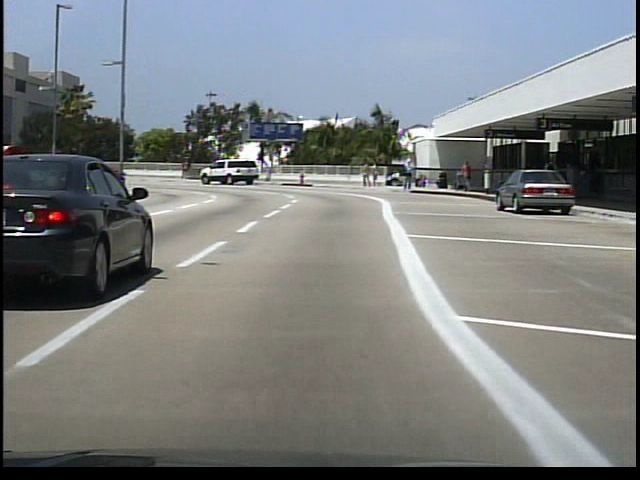person: (541, 154, 561, 204), (461, 160, 476, 191), (404, 157, 415, 193), (363, 162, 373, 190), (372, 160, 381, 189)
